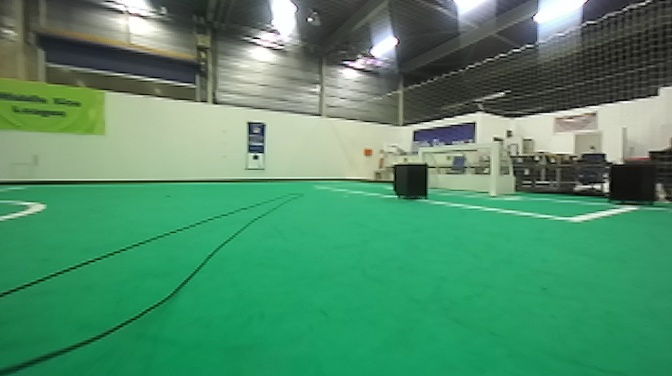goalpost: (485, 138, 502, 199), (416, 147, 423, 163)
